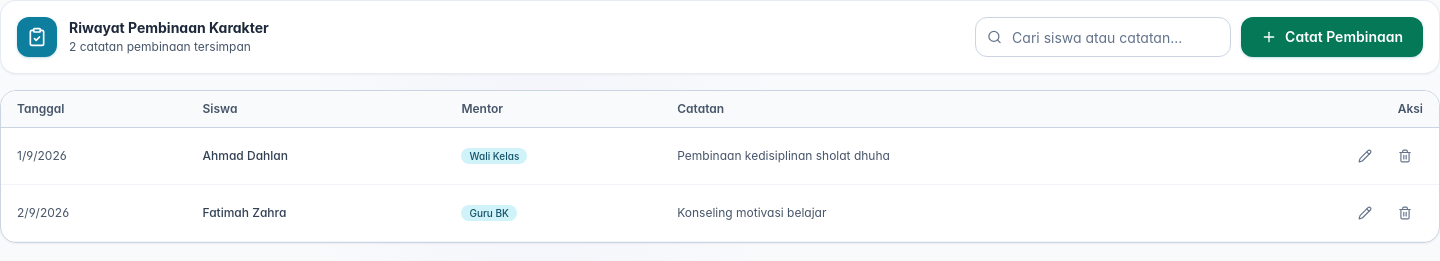
PembinaanTab (RBAC & Rendering) › filters logs based on search query
Type "Fatimah" into the field with placeholder "Cari siswa atau catatan..." at (1103, 37), box [975,17,1231,57]
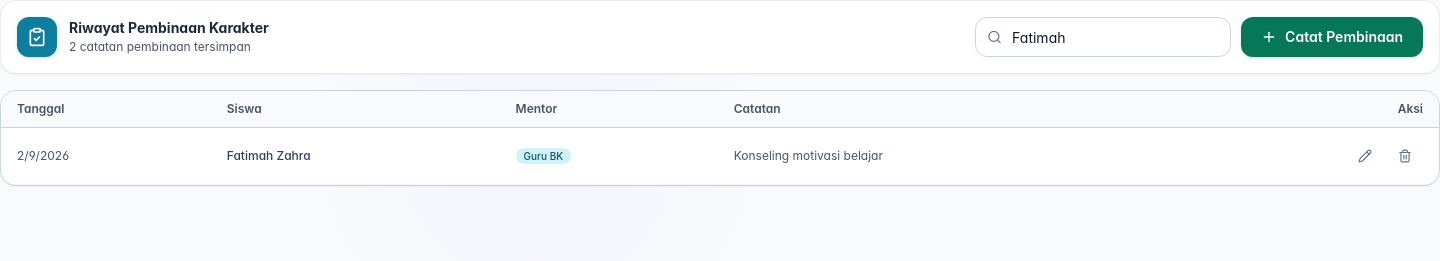
Expected: the text "Fatimah Zahra" is shown, [211,128,500,184]
Now the text "Ahmad Dahlan" is gone
